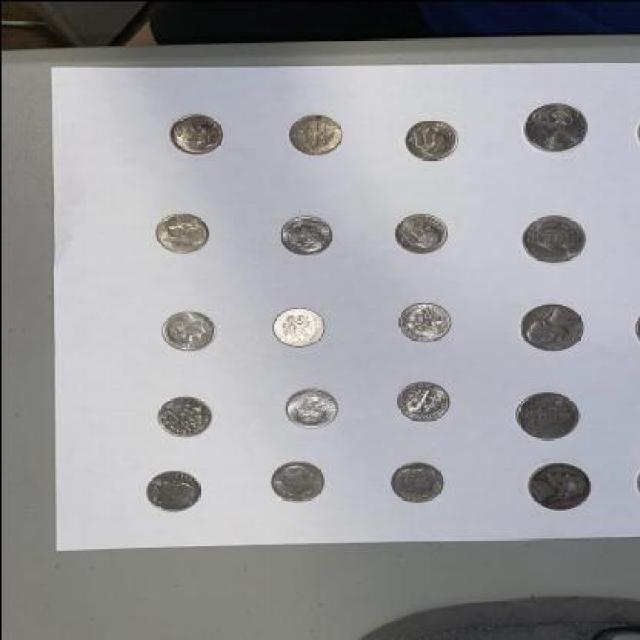Dime: (389, 458, 454, 504), (158, 306, 220, 352), (142, 466, 202, 512), (154, 392, 214, 438), (166, 111, 226, 157), (275, 210, 334, 256), (268, 460, 326, 503), (396, 300, 454, 343), (390, 211, 448, 254), (400, 117, 458, 160), (153, 211, 210, 254), (282, 386, 338, 429), (288, 114, 344, 157), (270, 306, 326, 346), (396, 382, 450, 422)
Nickel: (509, 388, 583, 438), (523, 460, 594, 511), (520, 100, 588, 152), (516, 302, 586, 352), (520, 216, 588, 264)
